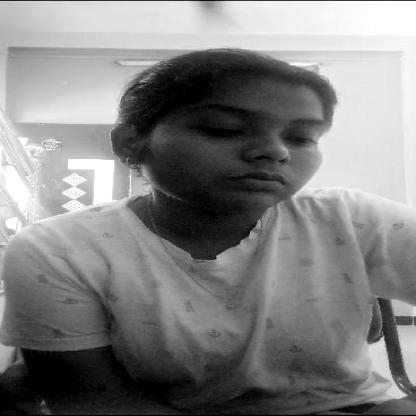Distracted: (102, 58, 362, 213)
